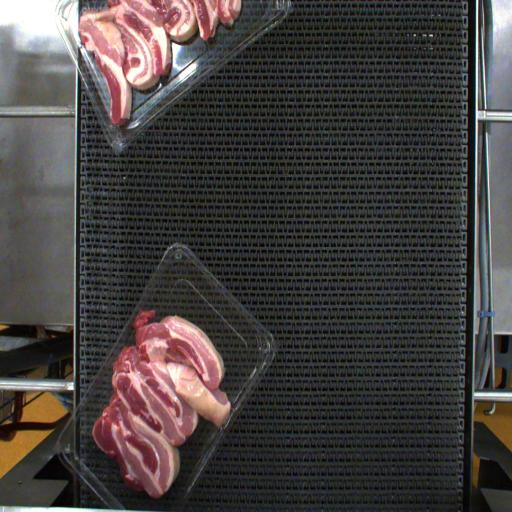loose-meat: (126, 308, 154, 328)
twisted-meat: (172, 368, 239, 438)
